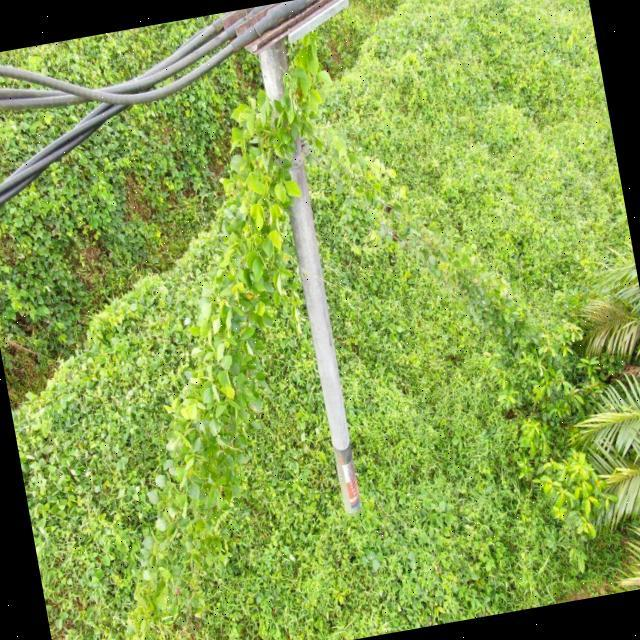critical vegetation: (30, 78, 364, 640), (283, 12, 572, 385)
